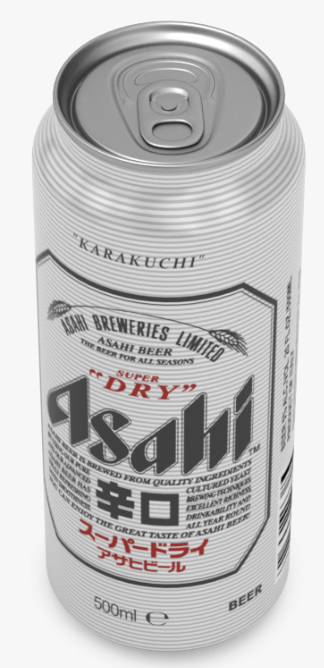beer-can: (32, 21, 305, 666)
